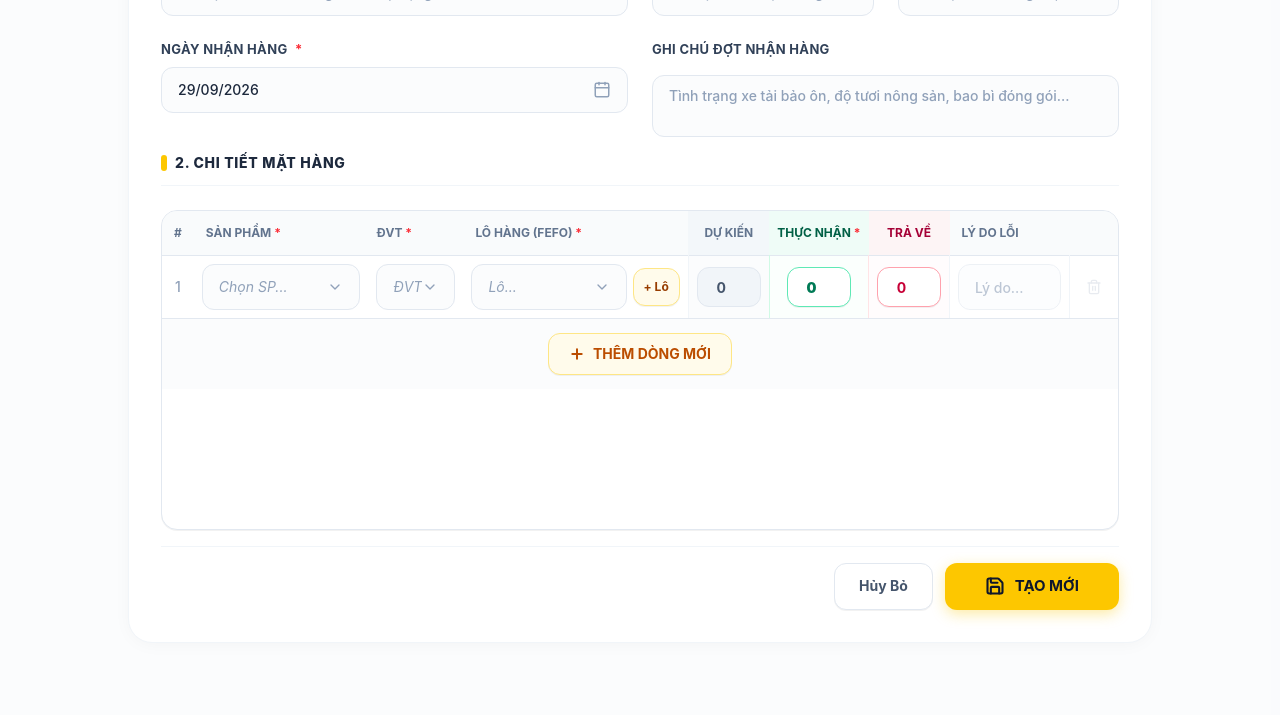
Module 10 - InventoryReceiptForm Component › TC02 - Báo lỗi validation khi chưa chọn kho nhận hoặc chưa hoàn thiện dòng kiểm đếm
(page scrolled)
Click the button "TẠO MỚI".
click(1032, 586)  # box [945,563,1119,610]
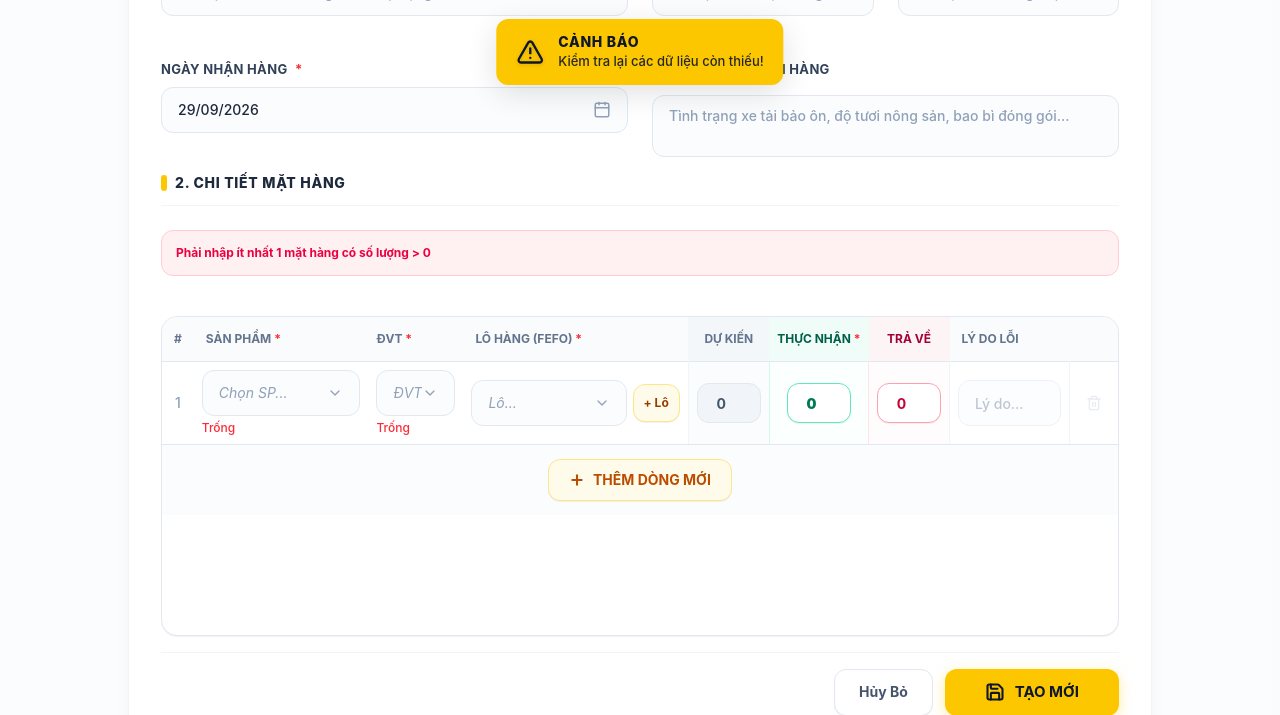
Result: the text "Vui lòng chọn Kho" is shown at [652,20,757,34]
